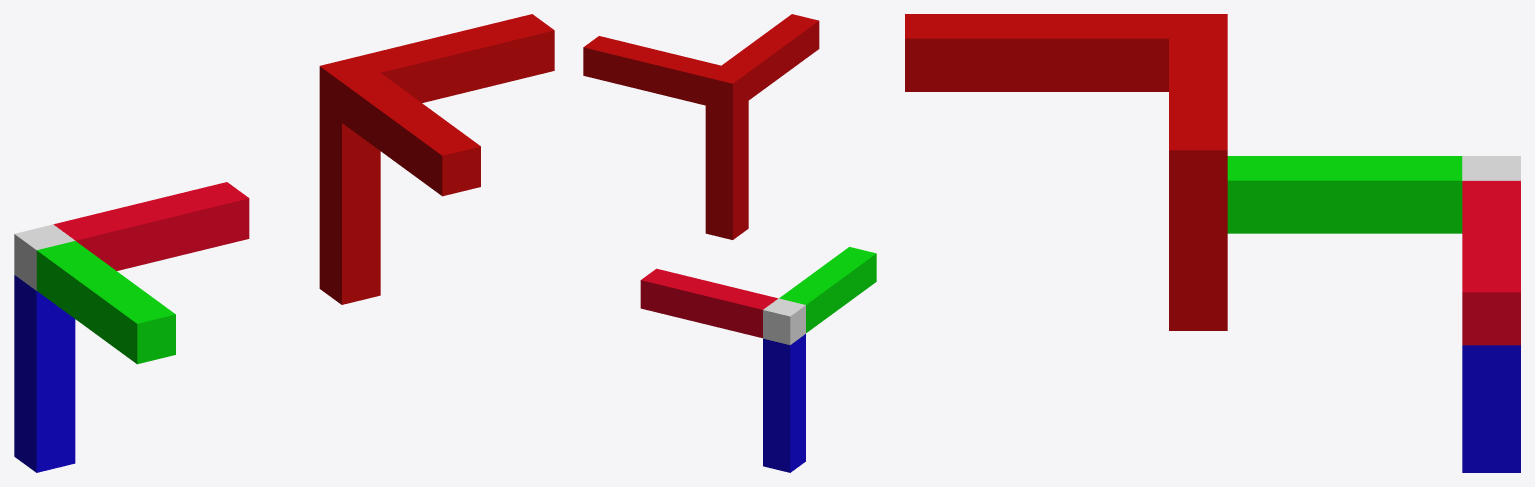
Rendered from frames.obj.
3 views of the same model, side by side, from view 1: azimuth 30°, elevation 25°; view 2: azimuth 150°, elevation 25°; view 3: azimuth 270°, elevation 25° (orthographic). The views are drawn at different scales.
Visible parts, largest first — view 1: Cube1, Cube2; view 2: Cube2, Cube1; view 3: Cube2, Cube1.
Boxes of the visible parts, <box> form: Cube1: <box>14,182,249,472</box>; Cube2: <box>319,14,554,304</box>; Cube2: <box>583,14,819,239</box>; Cube1: <box>640,247,876,472</box>; Cube2: <box>905,14,1227,330</box>; Cube1: <box>1227,156,1520,472</box>.
Bounding box in the file's own units: 4.2 × 4.2 × 4.2.
2 materials, 1 textured.
